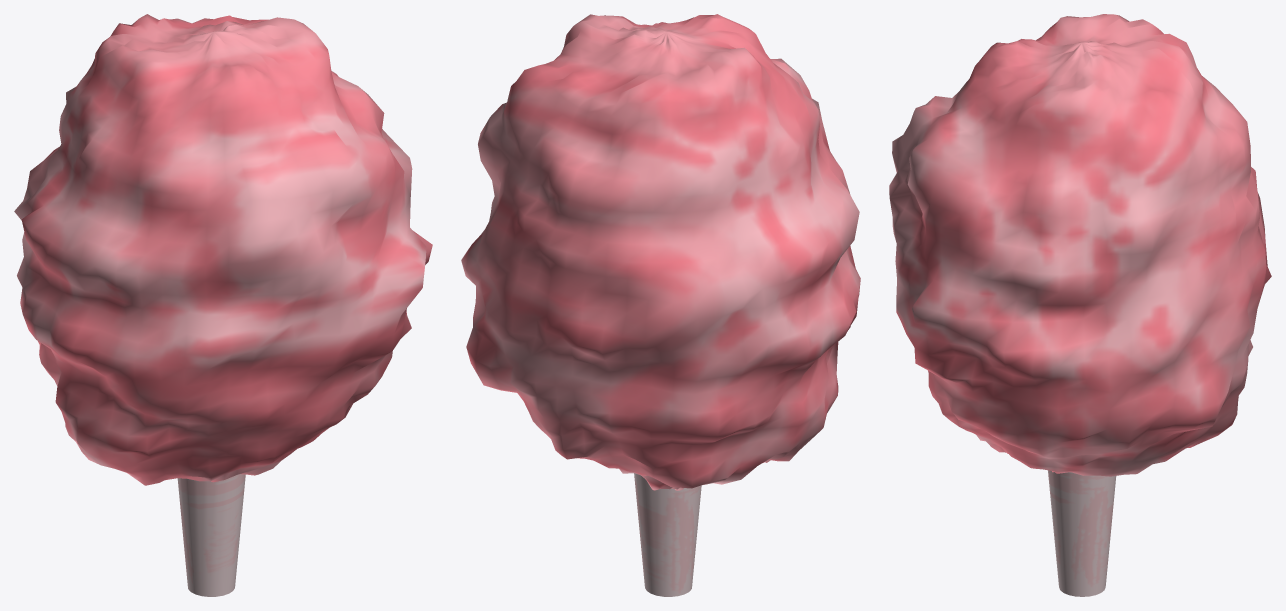
The model's file is Arbol2R.fbx.
3 views of the same model, side by side, from view 1: azimuth 30°, elevation 25°; view 2: azimuth 150°, elevation 25°; view 3: azimuth 270°, elevation 25° (orthographic).
Parts seen in each view (by area): view 1: boom_1; view 2: boom_1; view 3: boom_1.
Part boxes in pixels (x1=…): boom_1: x1=14, y1=14, x2=432, y2=596; boom_1: x1=461, y1=14, x2=860, y2=596; boom_1: x1=889, y1=14, x2=1271, y2=596.
Bounding box in the file's own units: 35.1 × 52.22 × 33.19.
1 material, 1 textured.
